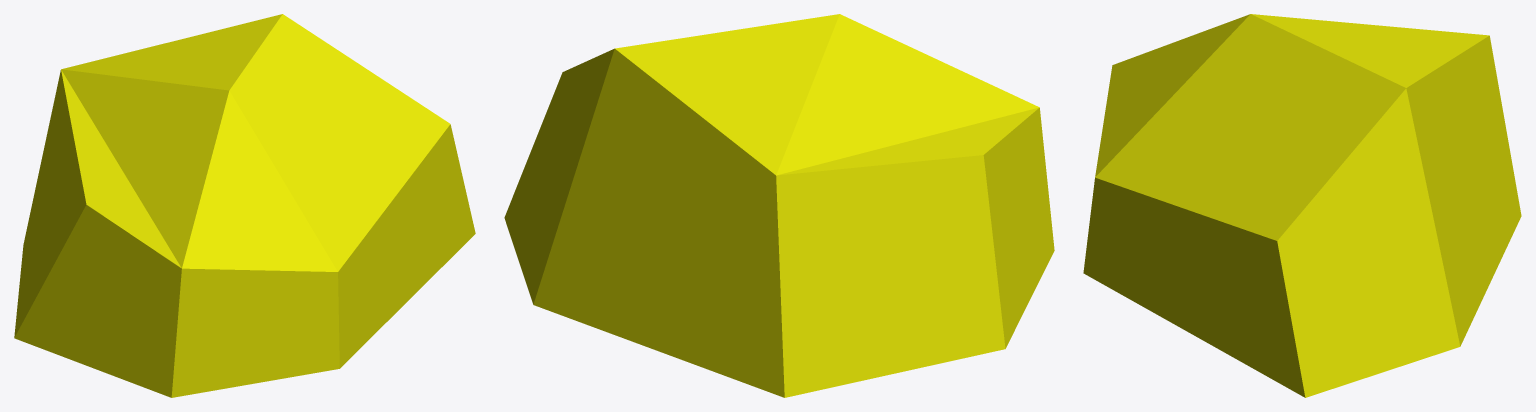
3 views of the same model, side by side, from view 1: azimuth 30°, elevation 25°; view 2: azimuth 150°, elevation 25°; view 3: azimuth 270°, elevation 25° (orthographic). The views are drawn at different scales.
Parts seen in each view (by area): view 1: rock_01; view 2: rock_01; view 3: rock_01.
Part boxes in pixels (x1,y1,x2,y2): rock_01: (14,14,475,397); rock_01: (504,14,1054,397); rock_01: (1083,14,1521,397).
Bounding box in the file's own units: 2.98 × 1.44 × 2.35.
1 material, 1 textured.
